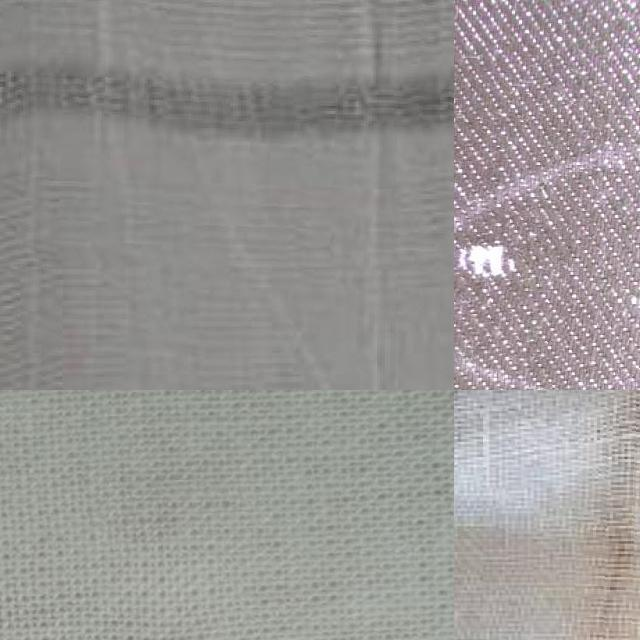Thread_other: (454, 209, 567, 356)
seam: (570, 390, 640, 640)
